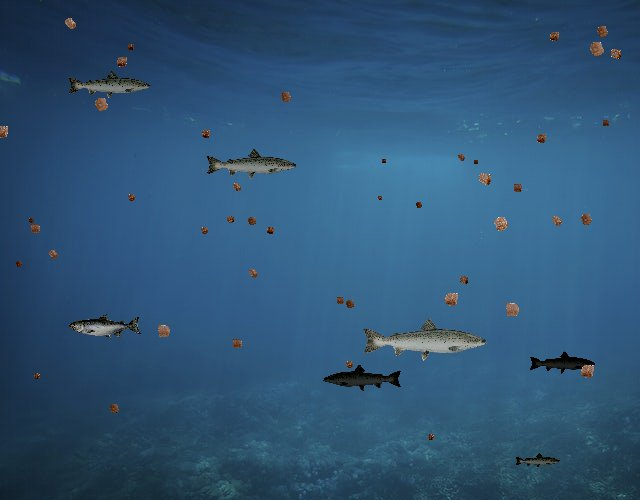Fish: (360, 316, 489, 362), (205, 148, 299, 182), (66, 69, 152, 100), (323, 364, 404, 393), (70, 314, 143, 340), (528, 351, 596, 375), (515, 452, 562, 469)
Pellet: (437, 286, 466, 315), (573, 357, 601, 385), (471, 166, 498, 193), (58, 11, 83, 36), (574, 208, 598, 232), (341, 356, 358, 373), (30, 369, 44, 383)
